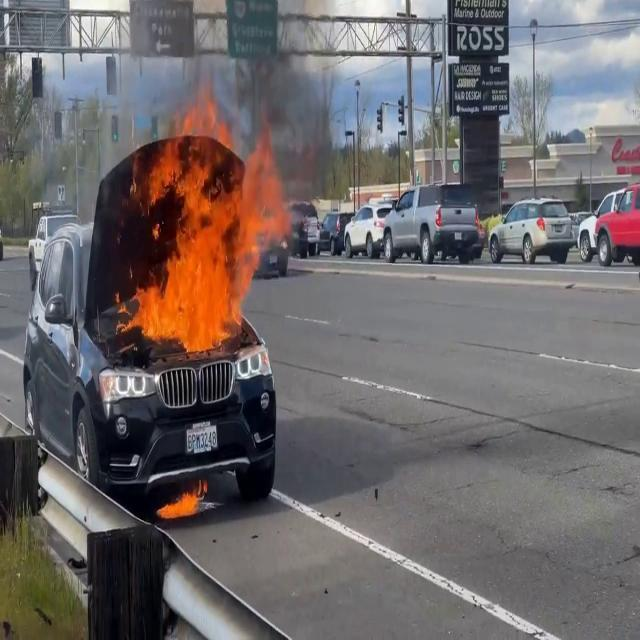Fire: (122, 94, 284, 358), (158, 480, 210, 523)
Smoke: (233, 21, 335, 179)
